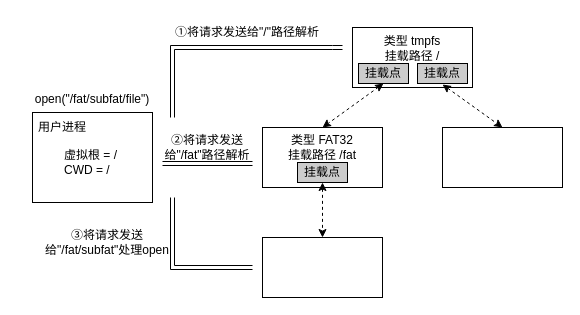
This 580x315 diagram has some shape labels left out. The shapes that lost their labels are listed below. From the top down, each one's centre as x and y in pixels, then its label:
At (502,157): "类型 EXT4 挂载路径 /ext".
At (322,267): "类型 FAT32 挂载路径 /fat/subfat".
